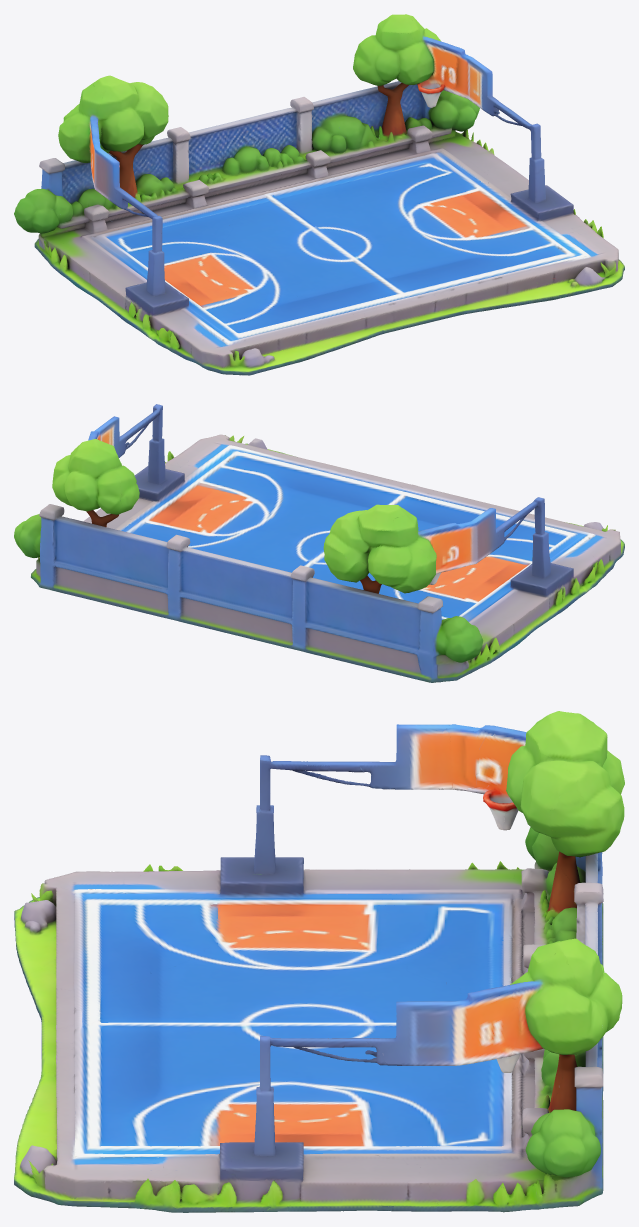
File: base_basic_shaded.fbx
The picture shows the model from 3 angles, top to bottom: view 1: azimuth 30°, elevation 25°; view 2: azimuth 150°, elevation 25°; view 3: azimuth 270°, elevation 25°; orthographic projection. The views are drawn at different scales.
Visible parts, largest first — view 1: model; view 2: model; view 3: model.
Part boxes in pixels (x1,y1,x2,y2): model: [14, 14, 624, 375]; model: [14, 404, 624, 682]; model: [14, 711, 624, 1212].
Size of the model in its own units: 186 by 59.1 by 142.
